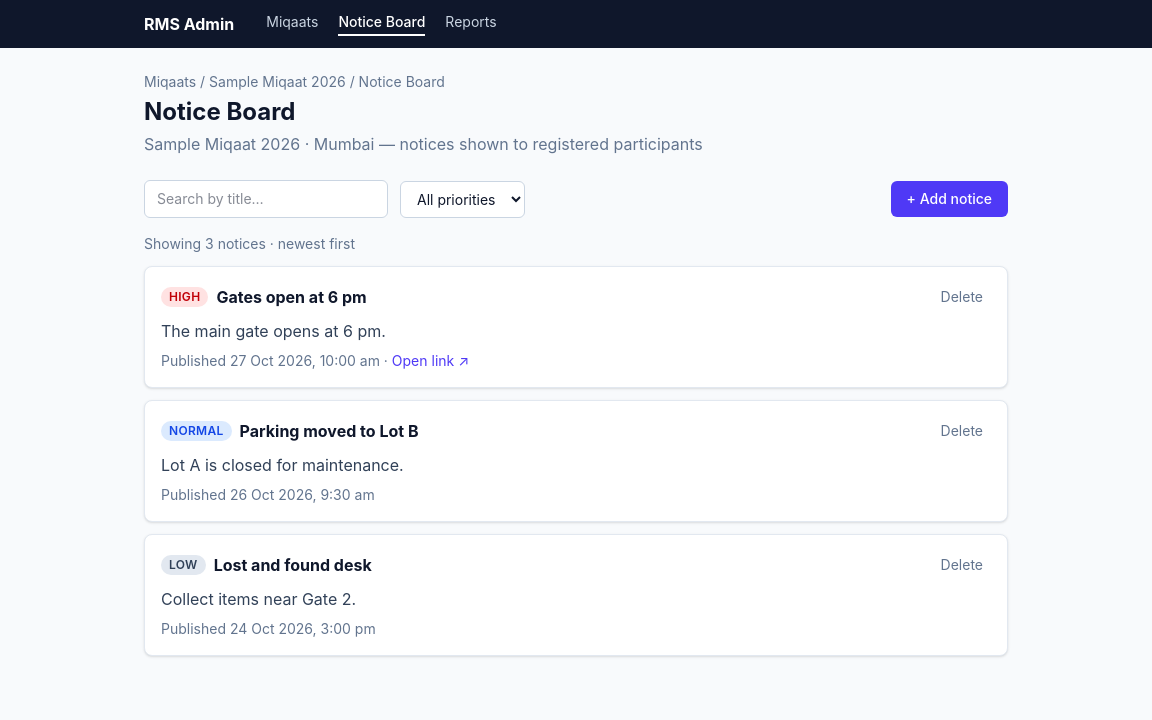
it: NoticeBoard › combines search and priority filter and shows the no-results state
Expected: the text "Showing 3 notices · newest first" is shown, 144,235 -> 355,252
Select "Low" in the dropdown named "Filter by priority". click: (462, 199)
box: 400,180 -> 525,218
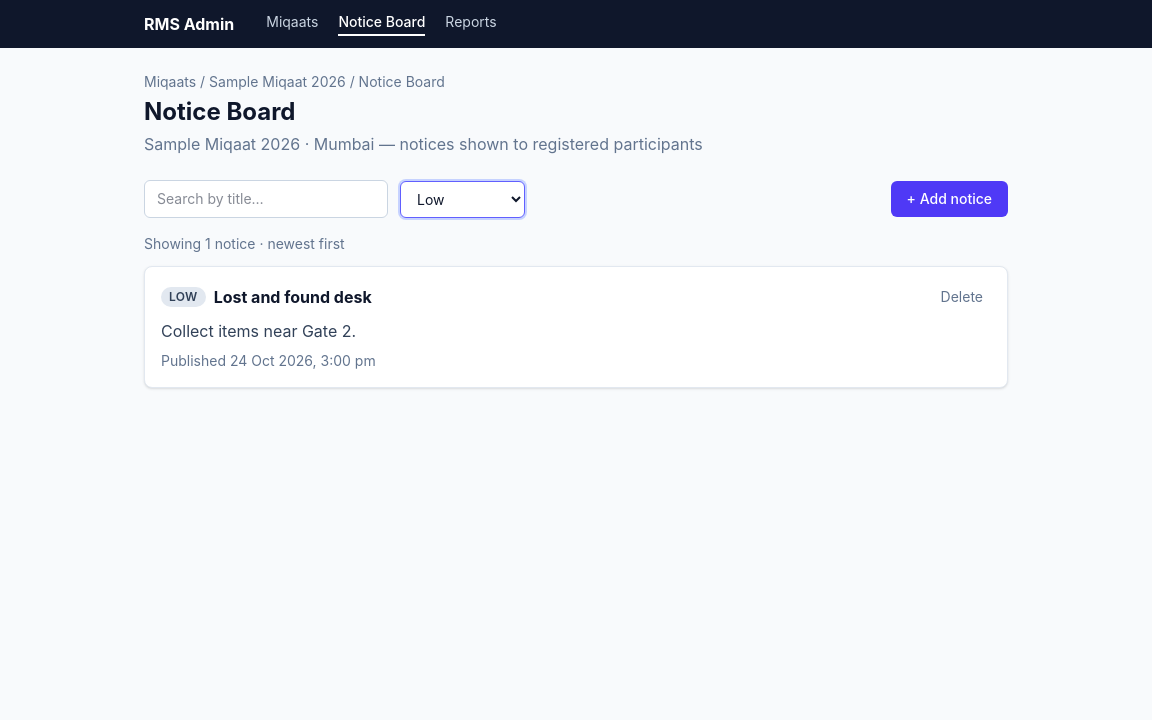
Now the text "Showing 1 notice · newest first" is shown, box 144,235 -> 345,252
Type "gates" into the search field with placeholder "Search by title…". click: (266, 199)
box: 144,180 -> 388,218
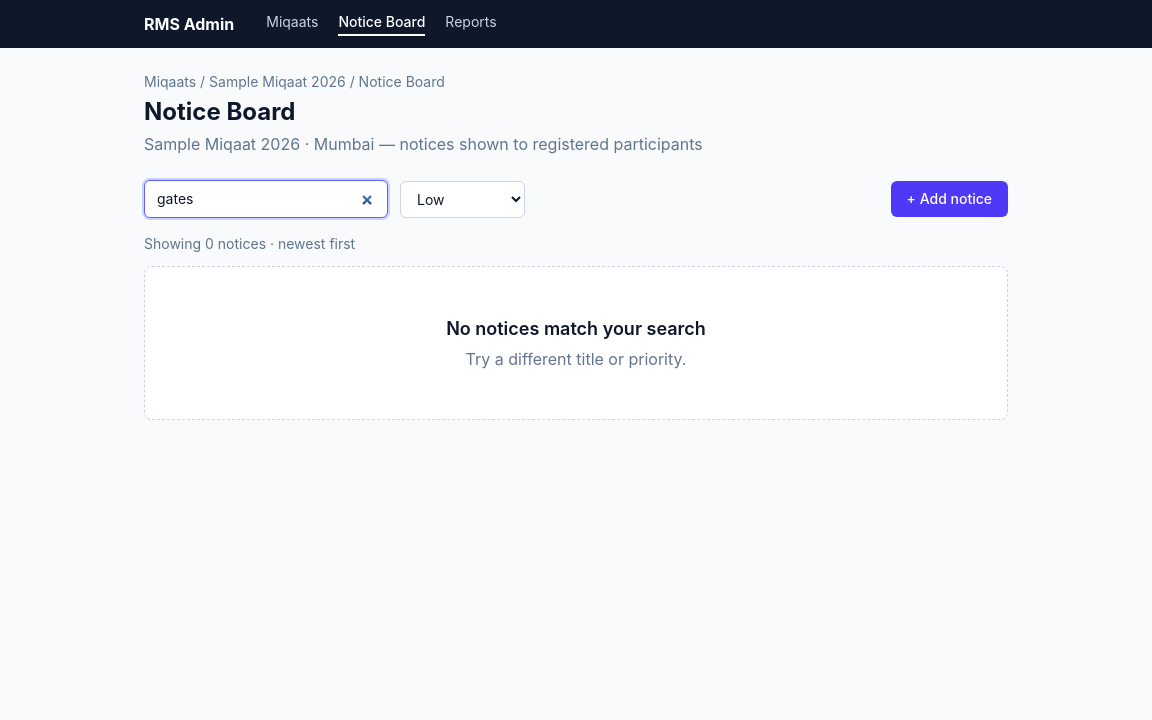
Now the heading "No notices match your search" is shown, box 446,315 -> 706,343
